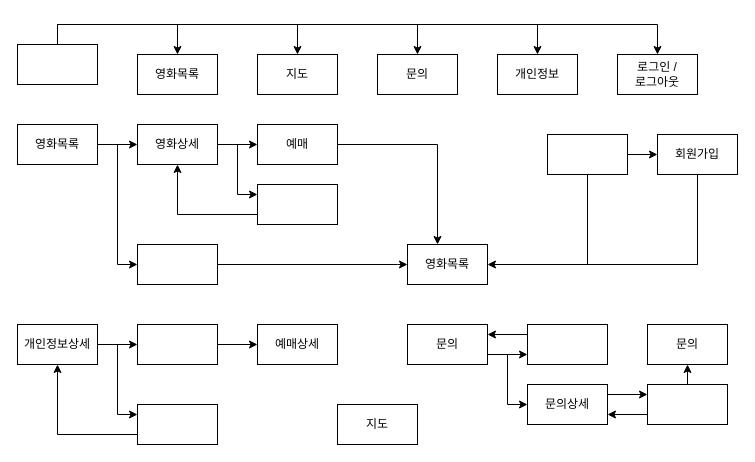
Some shapes in this 755 by 462 pixel diagram are drawn without their labels. The centre of each missing label's shape, as x and y in pixels:
"로그인" belongs at (x=587, y=154).
"문의수정" belongs at (x=687, y=404).
"문의작성" belongs at (x=567, y=344).
"수정" belongs at (x=297, y=204).
"영화등록" belongs at (x=177, y=264).
"예매정보" belongs at (x=177, y=344).
"헤더" belongs at (x=57, y=64).
"회원정보수정" belongs at (x=177, y=424).
